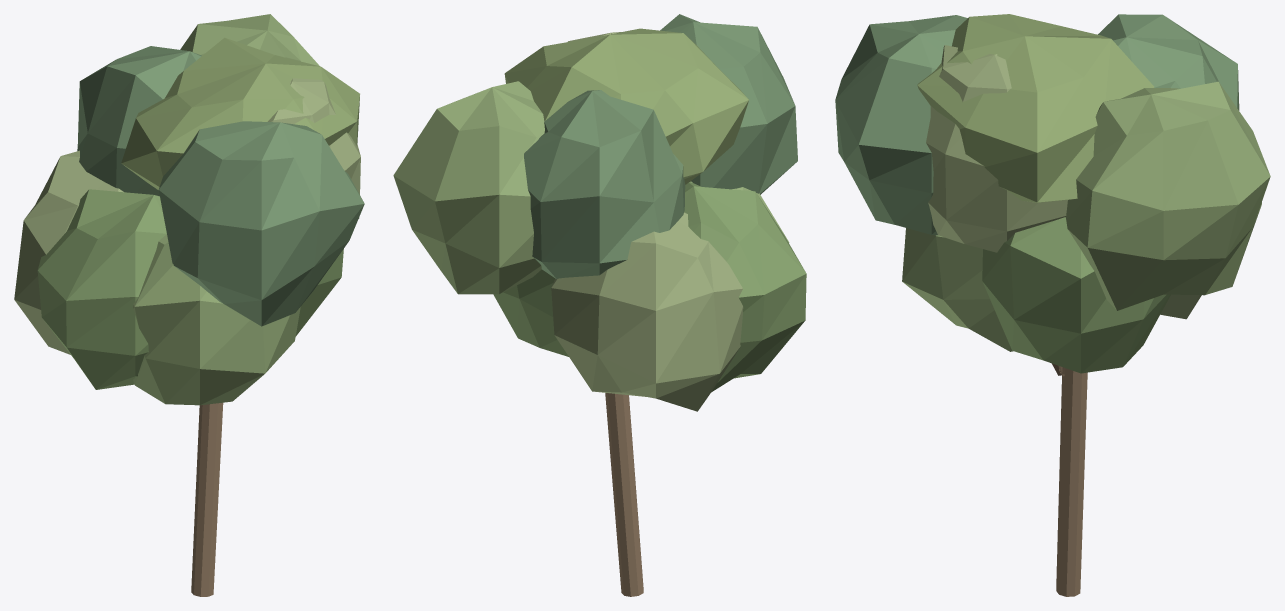
The picture shows the model from 3 angles, left to right: view 1: azimuth 30°, elevation 25°; view 2: azimuth 150°, elevation 25°; view 3: azimuth 270°, elevation 25°; orthographic projection. The views are drawn at different scales.
Bounding box in the file's own units: 3.23 × 5.11 × 3.49.
